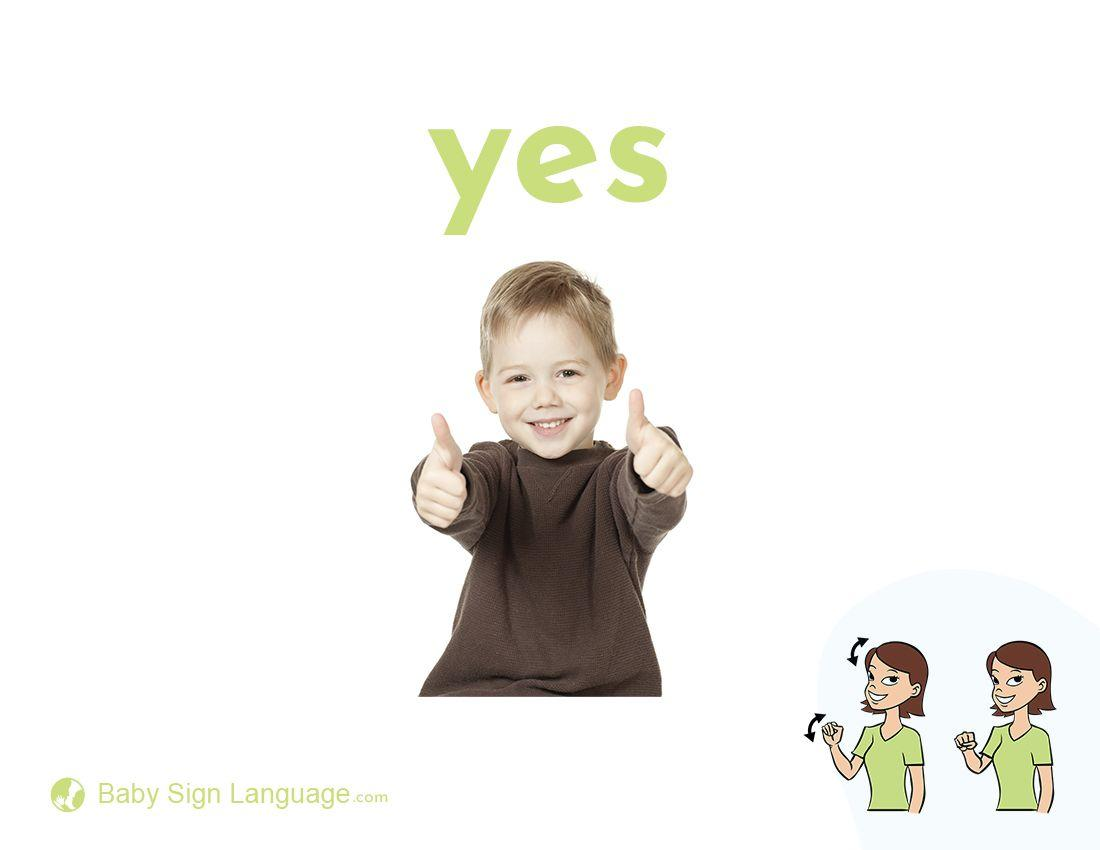Yes: (949, 724, 978, 753), (820, 716, 845, 745)
